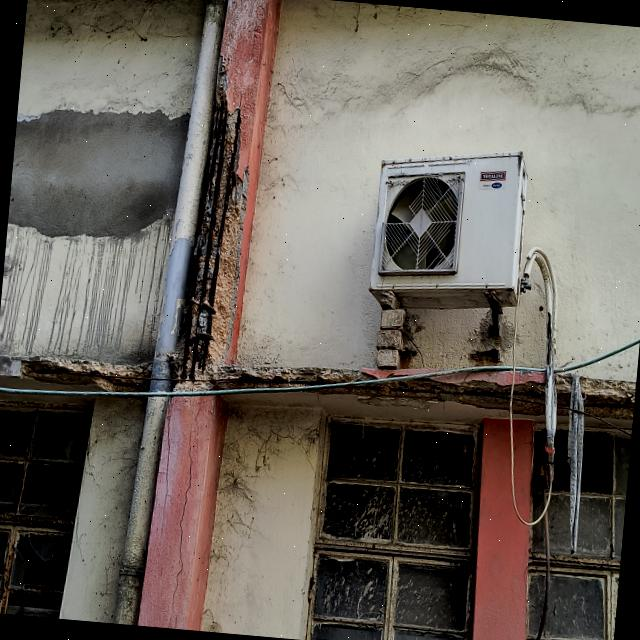Spalling: (168, 54, 513, 409), (20, 356, 152, 391), (580, 375, 636, 424), (513, 366, 545, 416)
